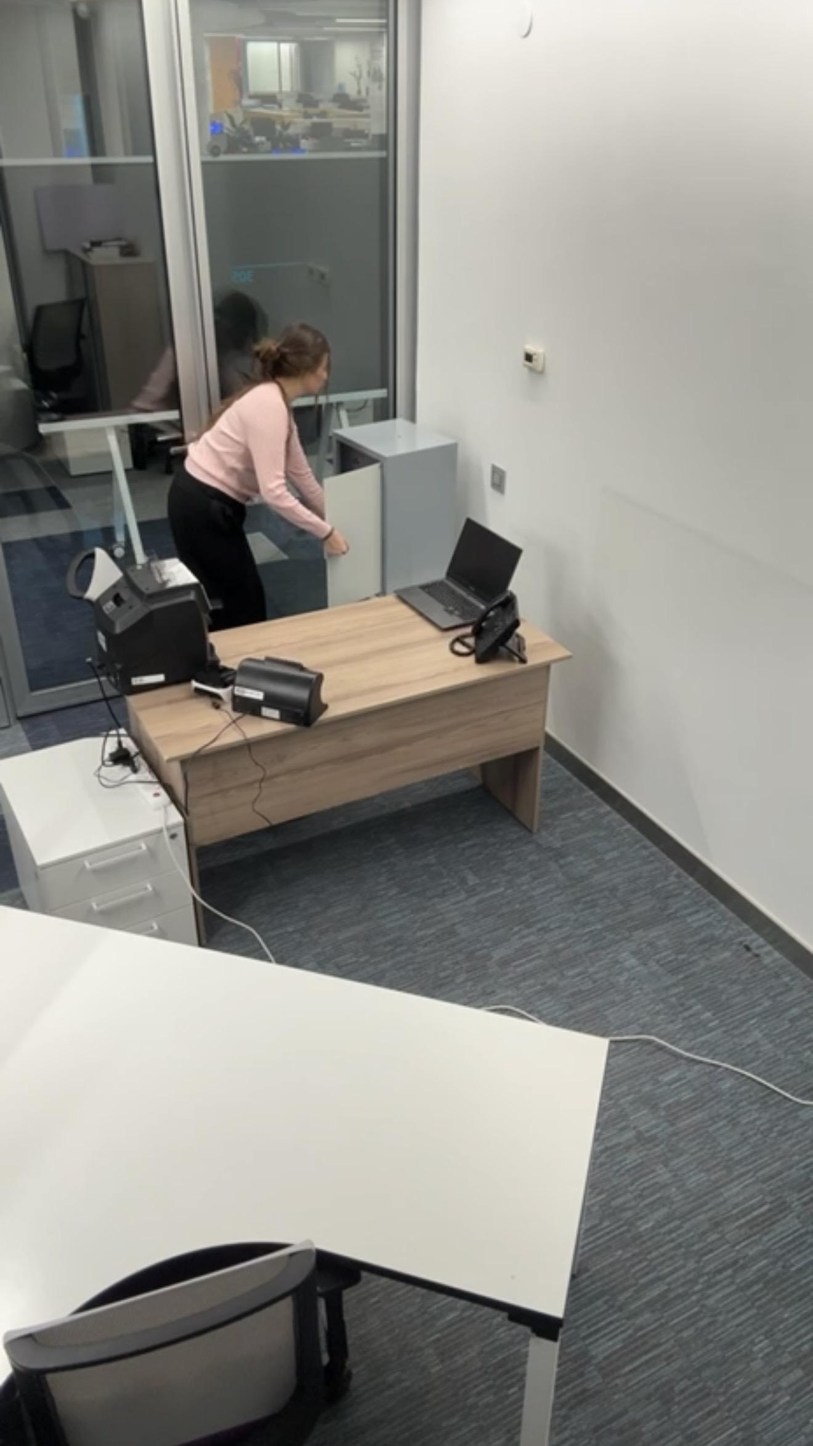counter: (86, 561, 222, 682)
safe_open: (308, 423, 452, 567)
uv_lamp: (228, 647, 331, 717)
